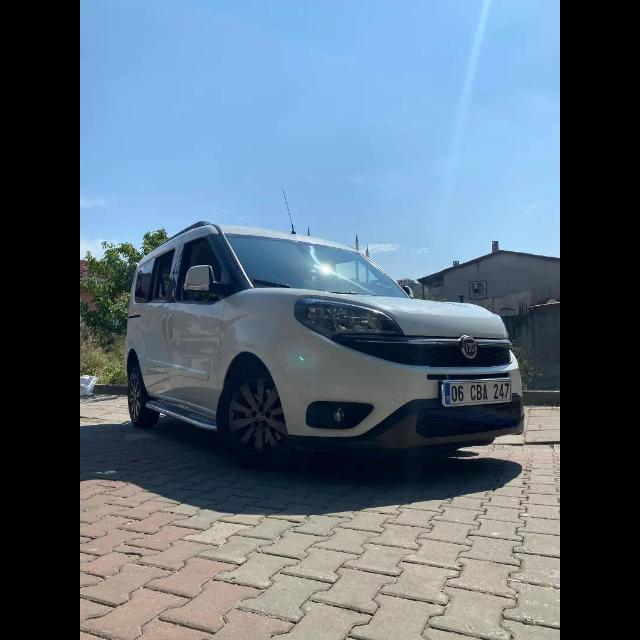Plaka: (442, 380, 512, 406)
